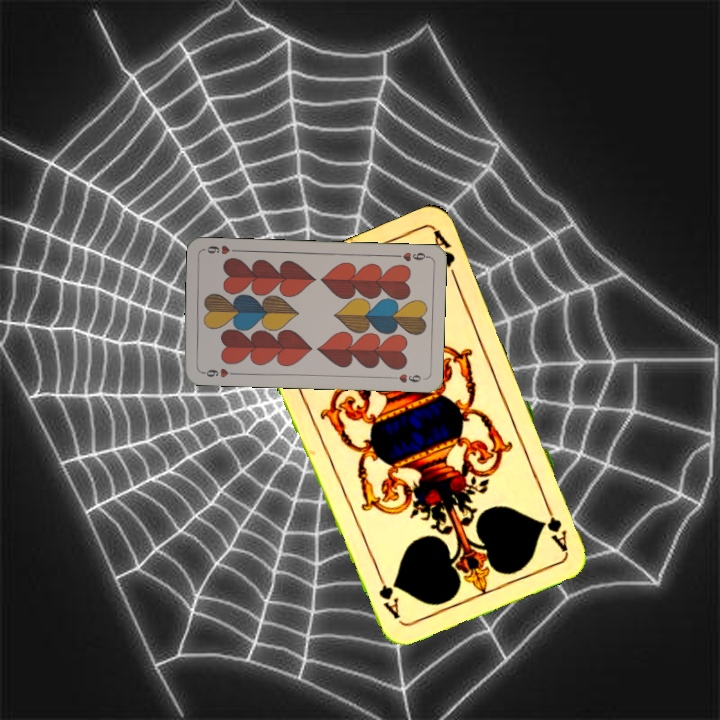GA: (540, 497, 570, 554)
H9: (390, 248, 430, 264), (198, 364, 238, 380)
